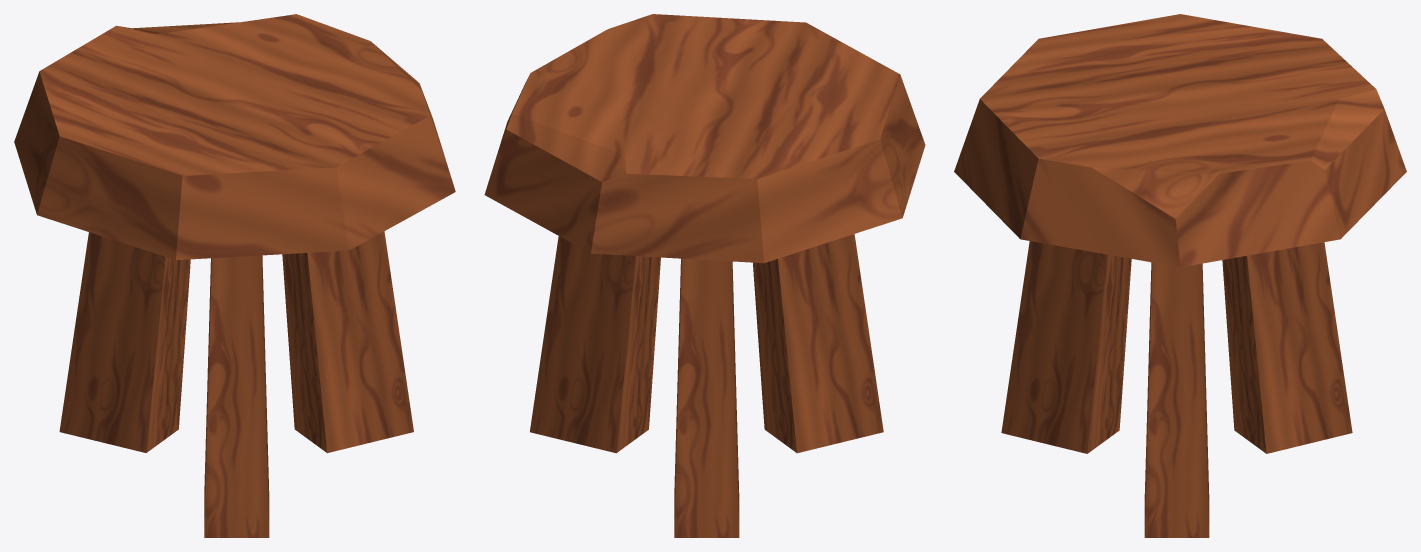
File: SM_Stool_1.fbx
3 views of the same model, side by side, from view 1: azimuth 30°, elevation 25°; view 2: azimuth 150°, elevation 25°; view 3: azimuth 270°, elevation 25° (orthographic).
Parts seen in each view (by area): view 1: SM_Stool_1; view 2: SM_Stool_1; view 3: SM_Stool_1.
Boxes of the visible parts, bbox=[...] form: SM_Stool_1: bbox=[14, 14, 455, 537]; SM_Stool_1: bbox=[484, 14, 925, 537]; SM_Stool_1: bbox=[954, 14, 1406, 537].
Size of the model in its own units: 51.93 by 45.72 by 51.93.
